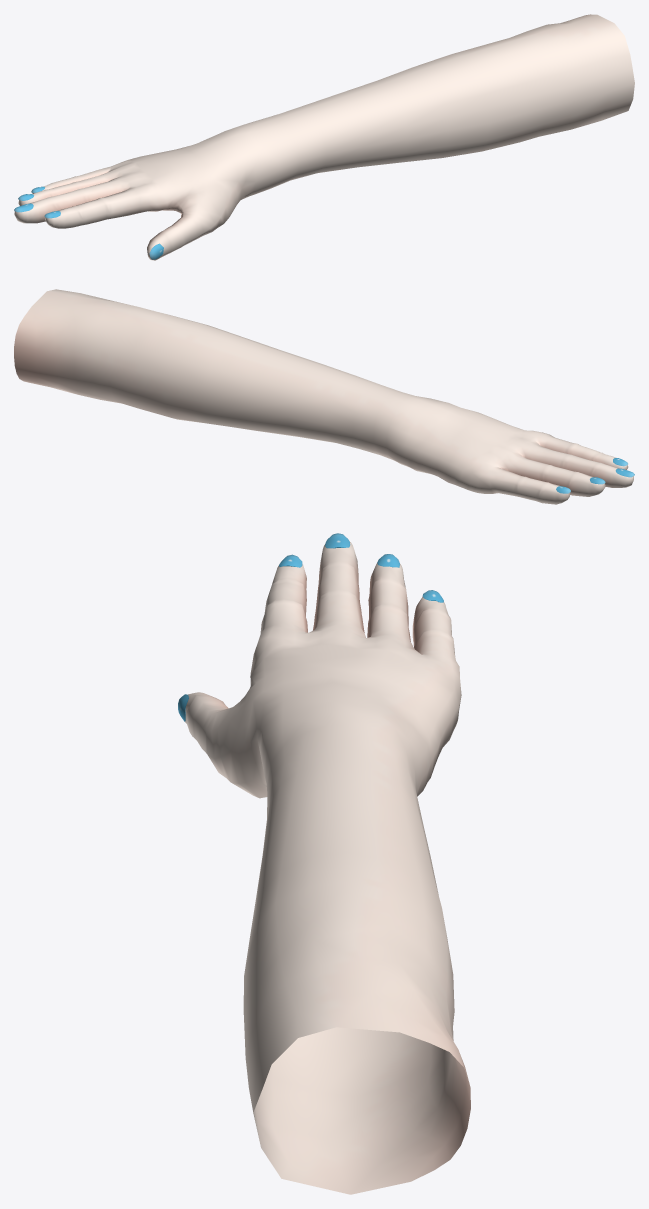
The model's file is Koharu_brazo_2.obj.
3 renders of one model, top to bottom at view 1: azimuth 30°, elevation 25°; view 2: azimuth 150°, elevation 25°; view 3: azimuth 270°, elevation 25°, orthographic. The views are drawn at different scales.
Visible parts, largest first — view 1: Brazo_2_Body_큐브.002; view 2: Brazo_2_Body_큐브.002; view 3: Brazo_2_Body_큐브.002.
Part boxes in pixels (x1=…): Brazo_2_Body_큐브.002: x1=14, y1=14, x2=634, y2=260; Brazo_2_Body_큐브.002: x1=14, y1=289, x2=634, y2=504; Brazo_2_Body_큐브.002: x1=178, y1=533, x2=470, y2=1194.
Bounding box in the file's own units: 0.2758 × 0.0413 × 0.0595.
